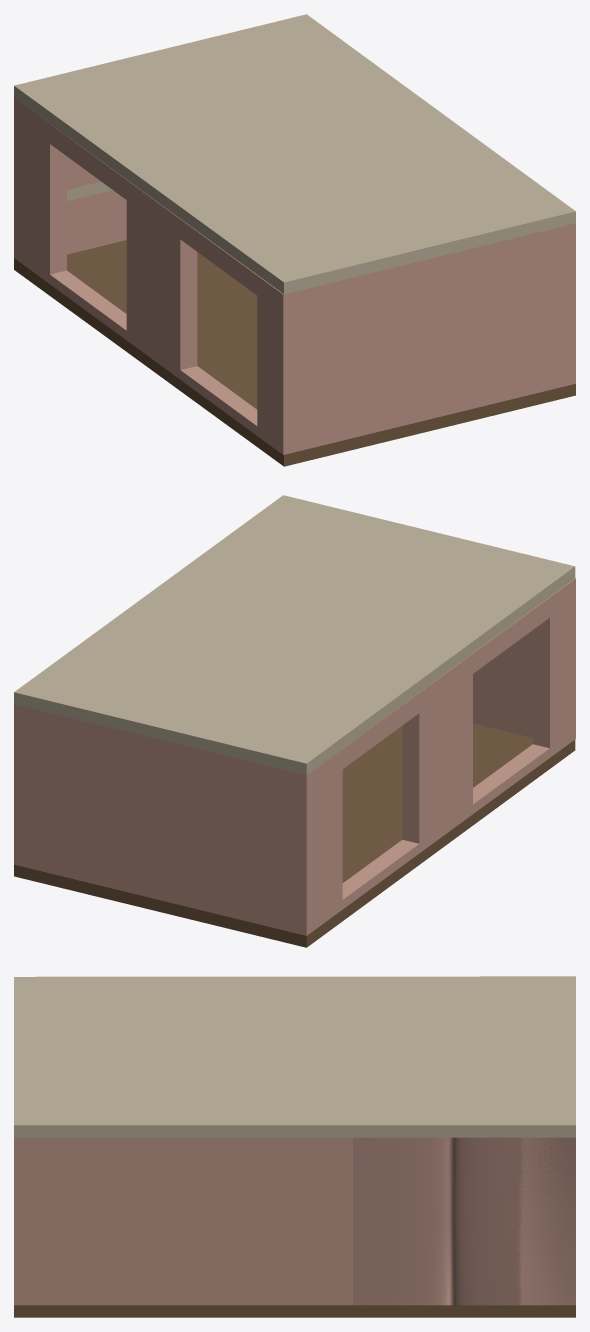
File: uploads_files_4265207_artsetfbx.fbx
3 renders of one model, top to bottom at view 1: azimuth 30°, elevation 25°; view 2: azimuth 150°, elevation 25°; view 3: azimuth 270°, elevation 25°, orthographic. The views are drawn at different scales.
Parts seen in each view (by area): view 1: Line2062835760, Line002, Line352907; view 2: Line2062835760, Line002, Line352907; view 3: Line002, Line2062835760, Line352907.
Boxes of the visible parts, <box> form: Line2062835760: <box>14,14,575,294</box>; Line002: <box>14,98,575,454</box>; Line352907: <box>14,240,575,466</box>; Line2062835760: <box>14,495,575,775</box>; Line002: <box>14,578,575,935</box>; Line352907: <box>14,723,575,947</box>; Line002: <box>14,1137,575,1305</box>; Line2062835760: <box>14,976,575,1137</box>; Line352907: <box>14,1305,575,1317</box>.
Size of the model in its own units: 517 by 311 by 824.
